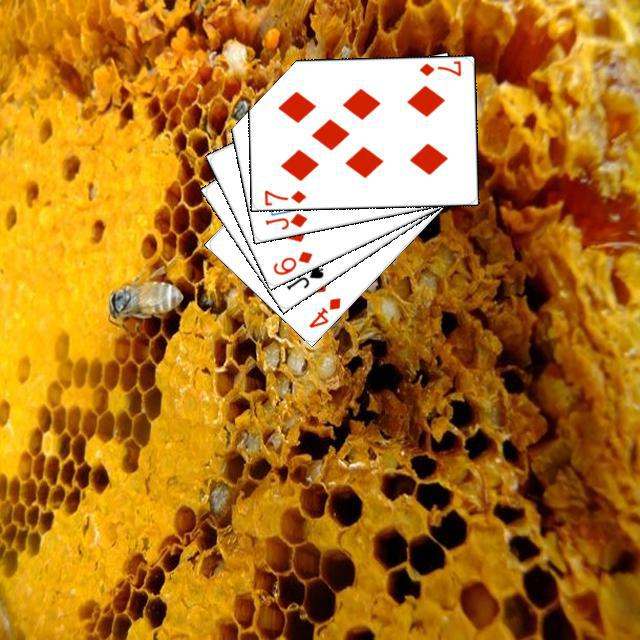4d: (304, 293, 343, 330)
6d: (268, 246, 314, 277)
7d: (259, 185, 308, 206), (415, 57, 463, 78)
Jd: (260, 208, 309, 231)
Js: (281, 260, 325, 292)
